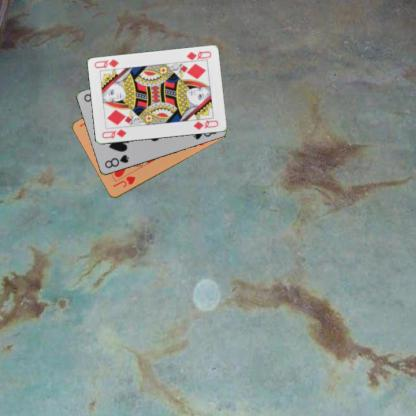8s: (102, 152, 130, 170)
Jh: (110, 173, 136, 189)
Qd: (182, 48, 212, 63), (99, 126, 127, 140)
